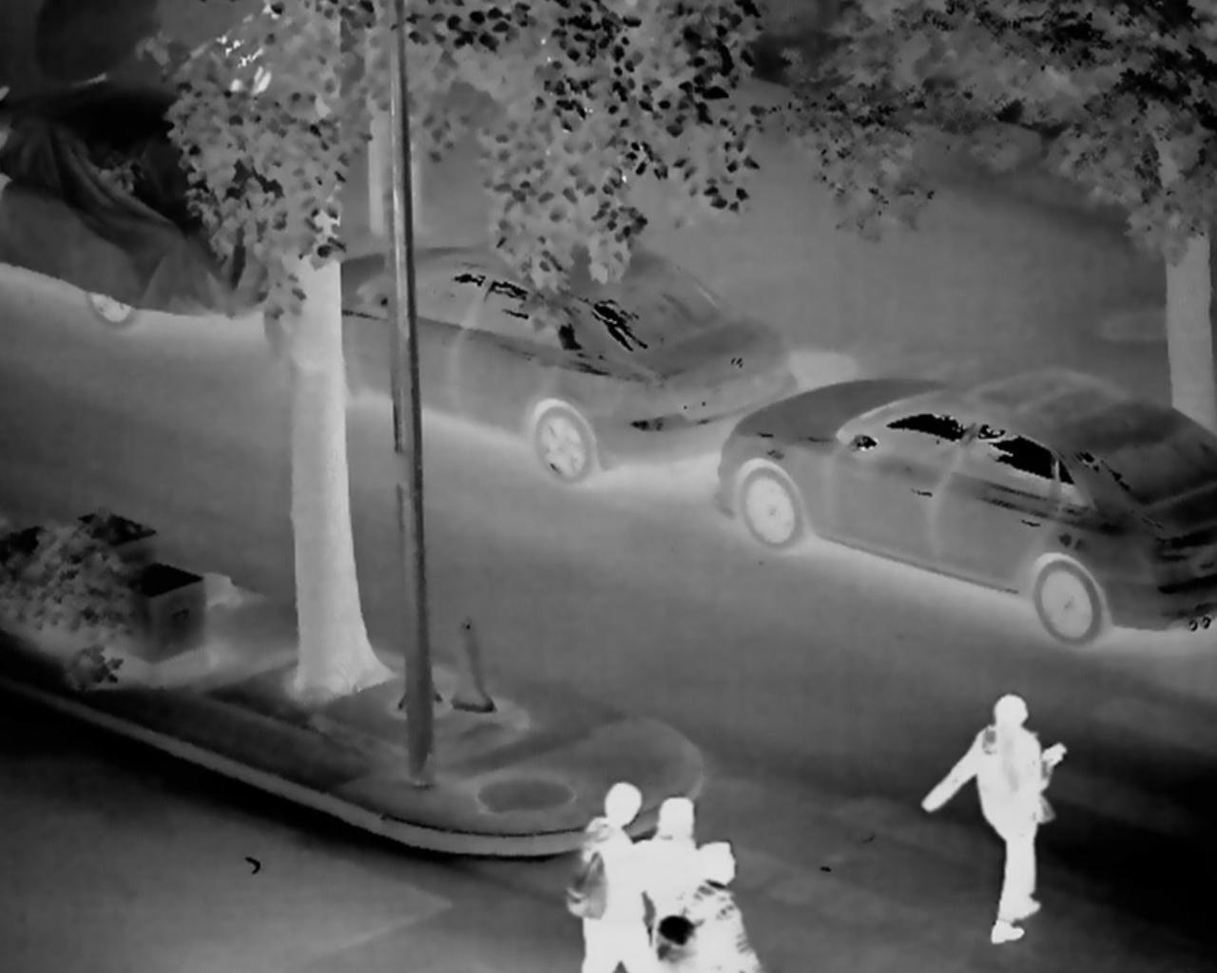person: (921, 680, 1070, 968), (571, 770, 653, 973), (647, 793, 704, 973), (687, 837, 754, 973)
